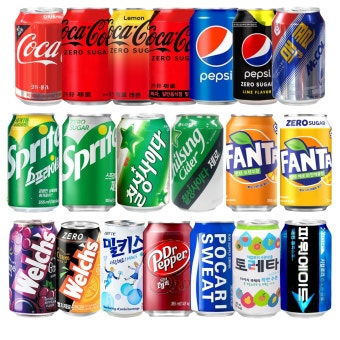paper: (271, 8, 327, 107), (224, 114, 281, 211), (276, 220, 333, 317), (62, 115, 118, 211), (280, 114, 333, 215), (172, 114, 226, 212), (117, 115, 170, 212), (60, 8, 112, 106), (8, 219, 60, 317), (9, 112, 60, 211), (55, 219, 104, 318), (15, 9, 63, 110), (143, 221, 194, 316), (189, 8, 238, 106), (234, 220, 284, 316), (107, 8, 154, 106), (102, 219, 148, 319), (149, 8, 193, 107), (191, 220, 235, 318), (236, 8, 279, 108)
